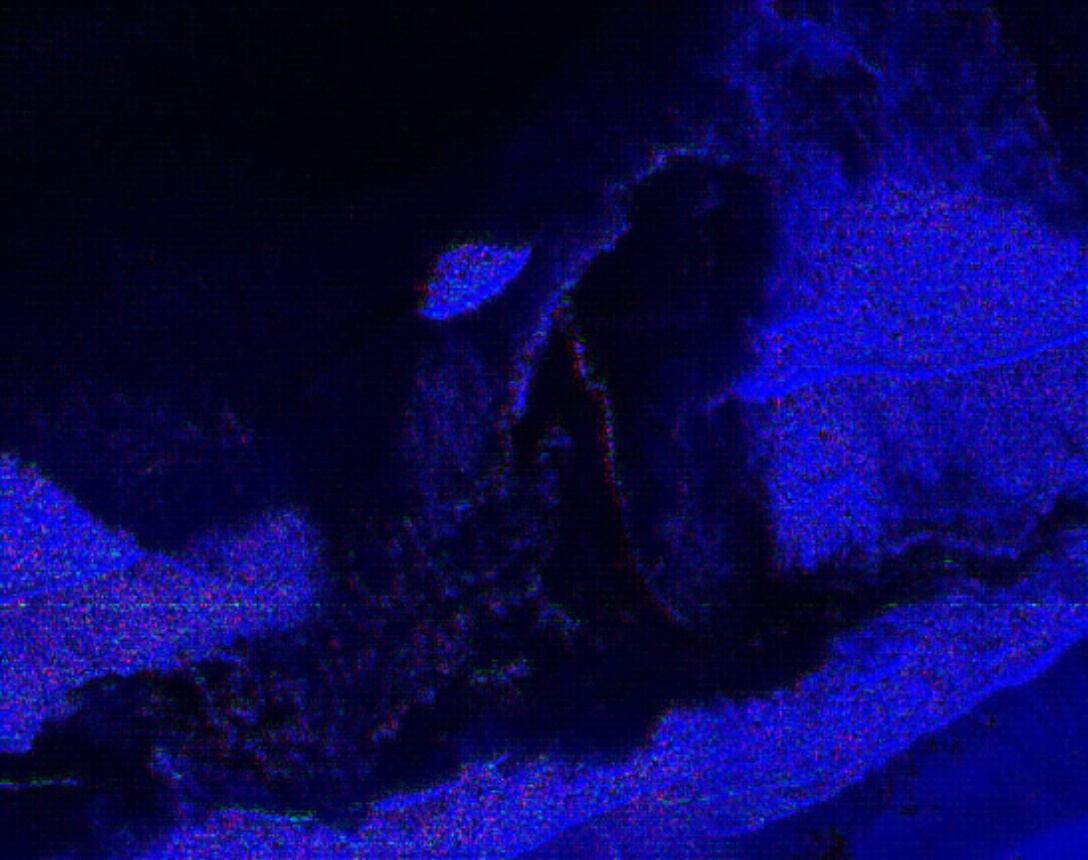rip_current: (403, 86, 844, 693)
